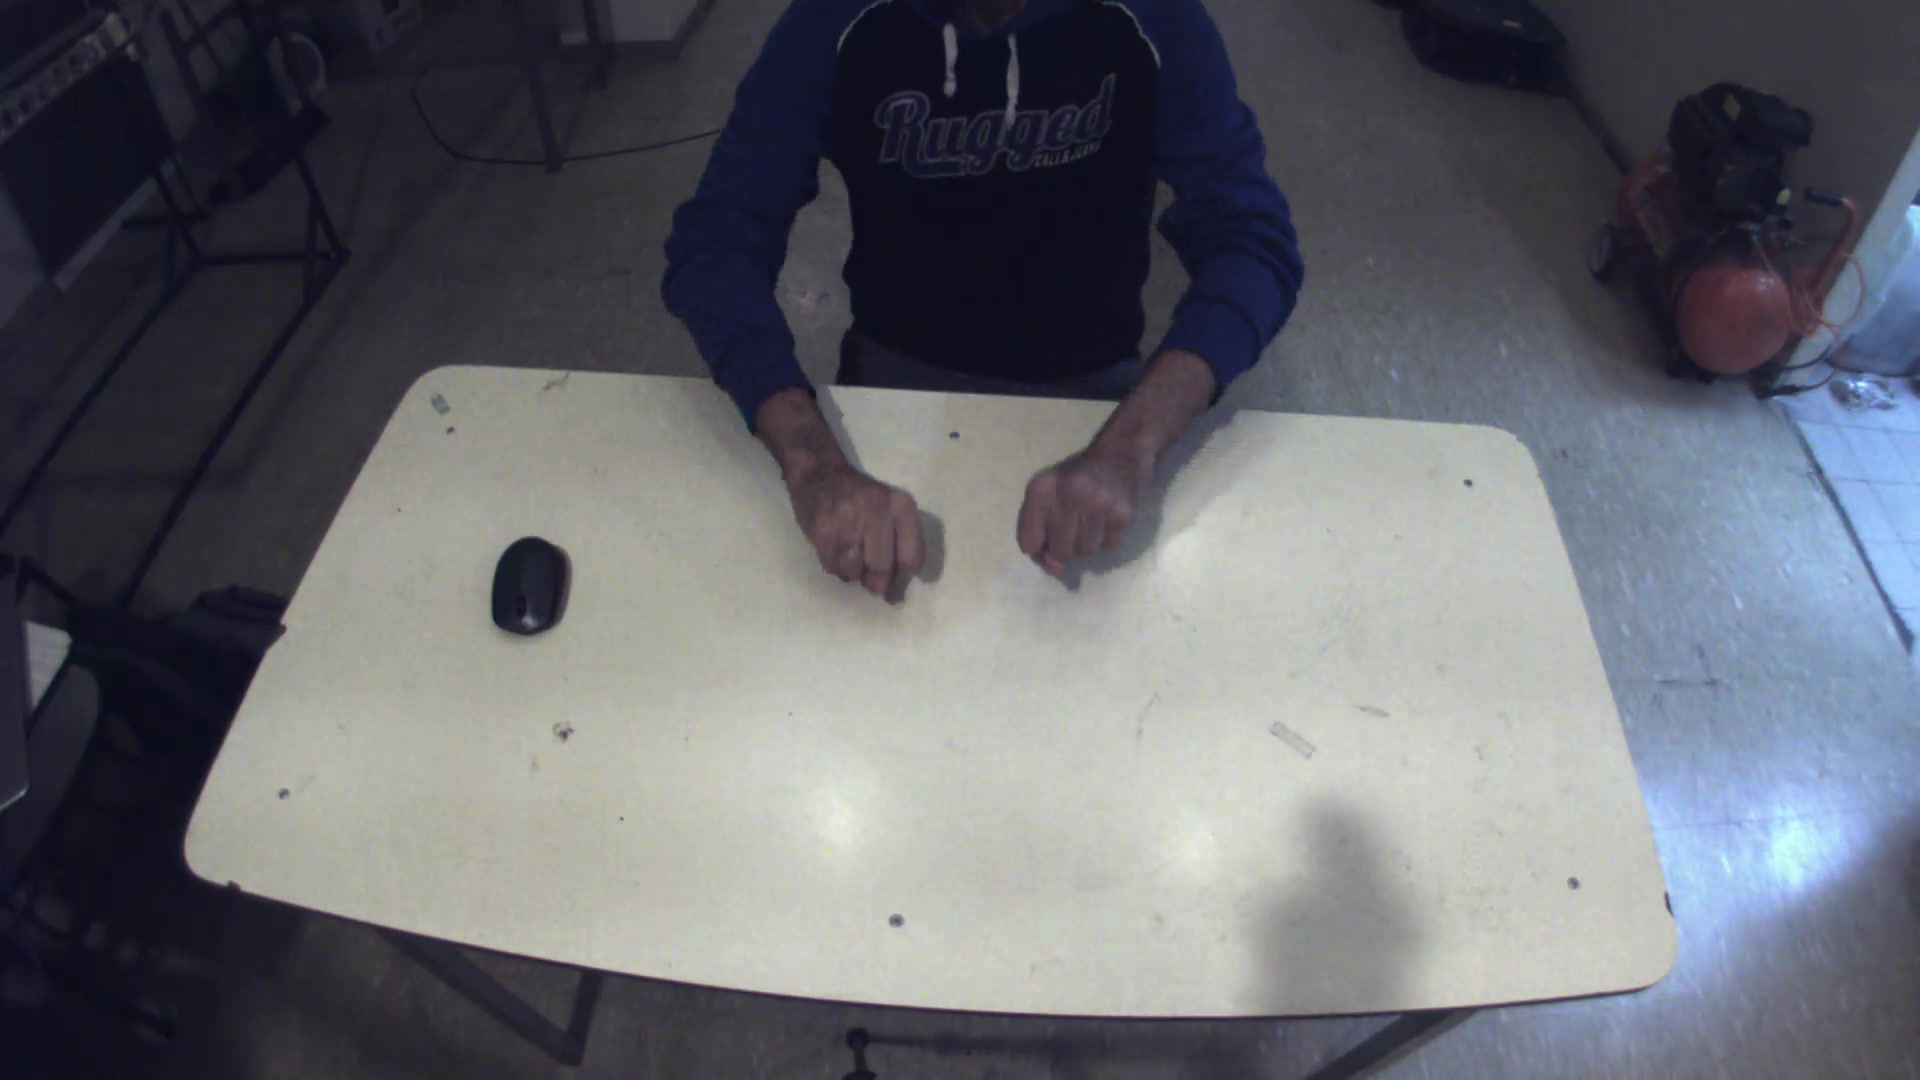hand: (1011, 417, 1164, 584), (778, 447, 936, 603)
